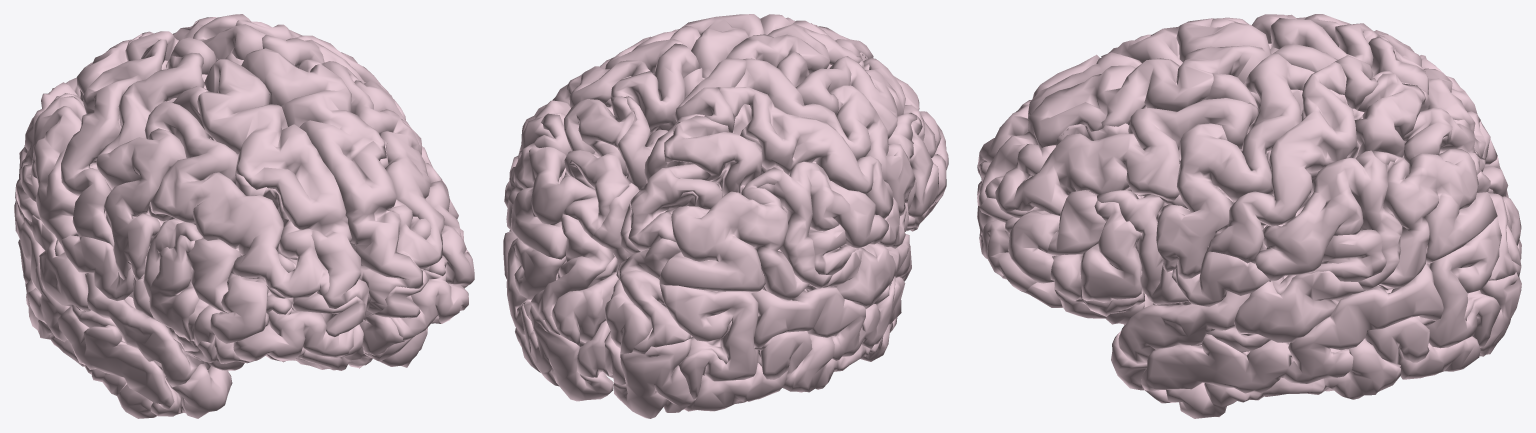
File: z-anatomy-cerebrum.glb
The picture shows the model from 3 angles, left to right: view 1: azimuth 30°, elevation 25°; view 2: azimuth 150°, elevation 25°; view 3: azimuth 270°, elevation 25°; orthographic projection. The views are drawn at different scales.
Parts seen in each view (by area): view 1: cerebrum-middle-frontal-gyrus-right__Middle frontal gyrus.r, cerebrum-superior-frontal-gyrus-right__Superior frontal gyru, cerebrum-superior-frontal-gyrus-left__Superior frontal gyrus, cerebrum-precentral-gyrus-right__Precentral gyrus.r, cerebrum-middle-frontal-gyrus-left__Middle frontal gyrus.l, cerebrum-postcentral-gyrus-right__Postcentral gyrus.r, cerebrum-middle-temporal-gyrus-right__Middle temporal gyrus., cerebrum-superior-temporal-gyrus-lateral-part-right__Superio, cerebrum-supramarginal-gyrus-right__Supramarginal gyrus.r, cerebrum-orbital-gyri-frontomarginal-gyrus-and-sulcus-right_, cerebrum-triangular-part-of-inferior-frontal-gyrus-right__Tr, cerebrum-inferior-frontal-sulcus-right__Inferior frontal sul (+23 smaller); view 2: cerebrum-angular-gyrus-right__Angular gyrus.r, cerebrum-superior-parietal-lobule-right__Superior parietal l, cerebrum-postcentral-gyrus-right__Postcentral gyrus.r, cerebrum-supramarginal-gyrus-right__Supramarginal gyrus.r, cerebrum-lateral-occipital-gyrus-middle-occipital-gyrus-righ, cerebrum-angular-gyrus-left__Angular gyrus.l, cerebrum-precentral-gyrus-right__Precentral gyrus.r, cerebrum-middle-temporal-gyrus-right__Middle temporal gyrus., cerebrum-superior-parietal-lobule-left__Superior parietal lo, cerebrum-middle-frontal-gyrus-right__Middle frontal gyrus.r, cerebrum-inferior-temporal-gyrus-right__Inferior temporal gy, cerebrum-occipital-pole-right__Occipital pole.r (+28 smaller); view 3: cerebrum-middle-frontal-gyrus-left__Middle frontal gyrus.l, cerebrum-precentral-gyrus-left__Precentral gyrus.l, cerebrum-middle-temporal-gyrus-left__Middle temporal gyrus.l, cerebrum-superior-frontal-gyrus-left__Superior frontal gyrus, cerebrum-postcentral-gyrus-left__Postcentral gyrus.l, cerebrum-supramarginal-gyrus-left__Supramarginal gyrus.l, cerebrum-superior-temporal-gyrus-lateral-part-left__Superior, cerebrum-angular-gyrus-left__Angular gyrus.l, cerebrum-inferior-temporal-gyrus-left__Inferior temporal gyr, cerebrum-superior-frontal-gyrus-right__Superior frontal gyru, cerebrum-superior-parietal-lobule-left__Superior parietal lo, cerebrum-lateral-occipital-gyrus-middle-occipital-gyrus-left (+25 smaller).
Part boxes in pixels (bbox=[...]): cerebrum-middle-frontal-gyrus-right__Middle frontal gyrus.r: bbox=[144, 101, 329, 343]; cerebrum-superior-frontal-gyrus-right__Superior frontal gyru: bbox=[197, 59, 369, 314]; cerebrum-superior-frontal-gyrus-left__Superior frontal gyrus: bbox=[225, 48, 423, 320]; cerebrum-precentral-gyrus-right__Precentral gyrus.r: bbox=[96, 53, 204, 280]; cerebrum-middle-frontal-gyrus-left__Middle frontal gyrus.l: bbox=[322, 61, 474, 285]; cerebrum-postcentral-gyrus-right__Postcentral gyrus.r: bbox=[61, 39, 167, 247]; cerebrum-middle-temporal-gyrus-right__Middle temporal gyrus.: bbox=[14, 201, 174, 409]; cerebrum-superior-temporal-gyrus-lateral-part-right__Superio: bbox=[25, 215, 195, 387]; cerebrum-supramarginal-gyrus-right__Supramarginal gyrus.r: bbox=[15, 96, 86, 244]; cerebrum-orbital-gyri-frontomarginal-gyrus-and-sulcus-right_: bbox=[233, 302, 354, 361]; cerebrum-triangular-part-of-inferior-frontal-gyrus-right__Tr: bbox=[149, 235, 199, 341]; cerebrum-inferior-frontal-sulcus-right__Inferior frontal sul: bbox=[148, 202, 241, 312]; cerebrum-angular-gyrus-right__Angular gyrus.r: bbox=[659, 167, 809, 299]; cerebrum-superior-parietal-lobule-right__Superior parietal l: bbox=[628, 115, 762, 251]; cerebrum-postcentral-gyrus-right__Postcentral gyrus.r: bbox=[718, 87, 893, 218]; cerebrum-supramarginal-gyrus-right__Supramarginal gyrus.r: bbox=[757, 161, 888, 288]; cerebrum-lateral-occipital-gyrus-middle-occipital-gyrus-righ: bbox=[659, 284, 758, 399]; cerebrum-angular-gyrus-left__Angular gyrus.l: bbox=[506, 113, 596, 259]; cerebrum-precentral-gyrus-right__Precentral gyrus.r: bbox=[735, 58, 915, 215]; cerebrum-middle-temporal-gyrus-right__Middle temporal gyrus.: bbox=[751, 276, 905, 360]; cerebrum-superior-parietal-lobule-left__Superior parietal lo: bbox=[562, 96, 637, 237]; cerebrum-middle-frontal-gyrus-right__Middle frontal gyrus.r: bbox=[795, 56, 948, 169]; cerebrum-inferior-temporal-gyrus-right__Inferior temporal gy: bbox=[755, 322, 892, 392]; cerebrum-occipital-pole-right__Occipital pole.r: bbox=[613, 338, 695, 418]; cerebrum-middle-frontal-gyrus-left__Middle frontal gyrus.l: bbox=[985, 98, 1258, 283]; cerebrum-precentral-gyrus-left__Precentral gyrus.l: bbox=[1156, 52, 1314, 279]; cerebrum-middle-temporal-gyrus-left__Middle temporal gyrus.l: bbox=[1141, 264, 1443, 393]; cerebrum-superior-frontal-gyrus-left__Superior frontal gyrus: bbox=[977, 45, 1267, 206]; cerebrum-postcentral-gyrus-left__Postcentral gyrus.l: bbox=[1205, 61, 1357, 263]; cerebrum-supramarginal-gyrus-left__Supramarginal gyrus.l: bbox=[1255, 150, 1402, 290]; cerebrum-superior-temporal-gyrus-lateral-part-left__Superior: bbox=[1118, 271, 1365, 364]; cerebrum-angular-gyrus-left__Angular gyrus.l: bbox=[1372, 149, 1497, 290]; cerebrum-inferior-temporal-gyrus-left__Inferior temporal gyr: bbox=[1166, 316, 1435, 418]; cerebrum-superior-frontal-gyrus-right__Superior frontal gyru: bbox=[977, 18, 1278, 182]; cerebrum-superior-parietal-lobule-left__Superior parietal lo: bbox=[1354, 73, 1485, 174]; cerebrum-lateral-occipital-gyrus-middle-occipital-gyrus-left: bbox=[1426, 216, 1501, 348].
Bounding box in the file's own units: 0.1378 × 0.1178 × 0.1807.
